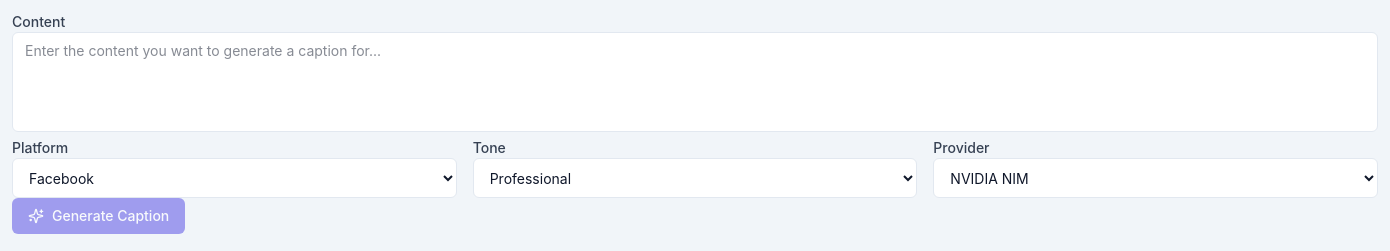
Test: CaptionGenerator › interaction › enables generate button when content is provided
In the text box labelled "Content": (695, 82) [12,32,1378,132], type "Some content"
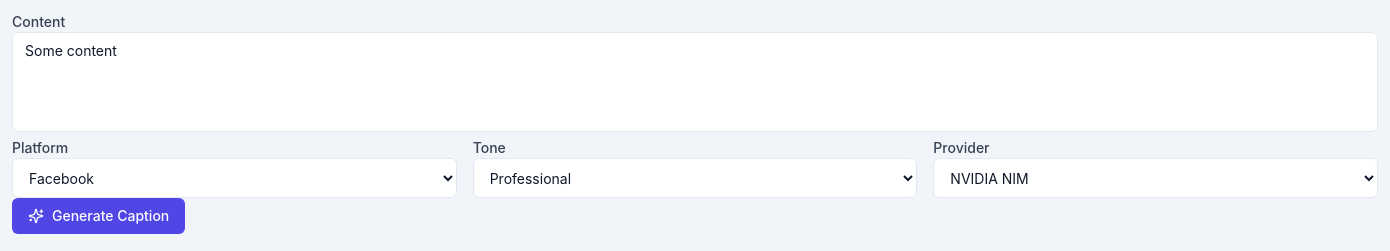
expect the button "Generate Caption" is enabled: met, box [12,198,185,234]
